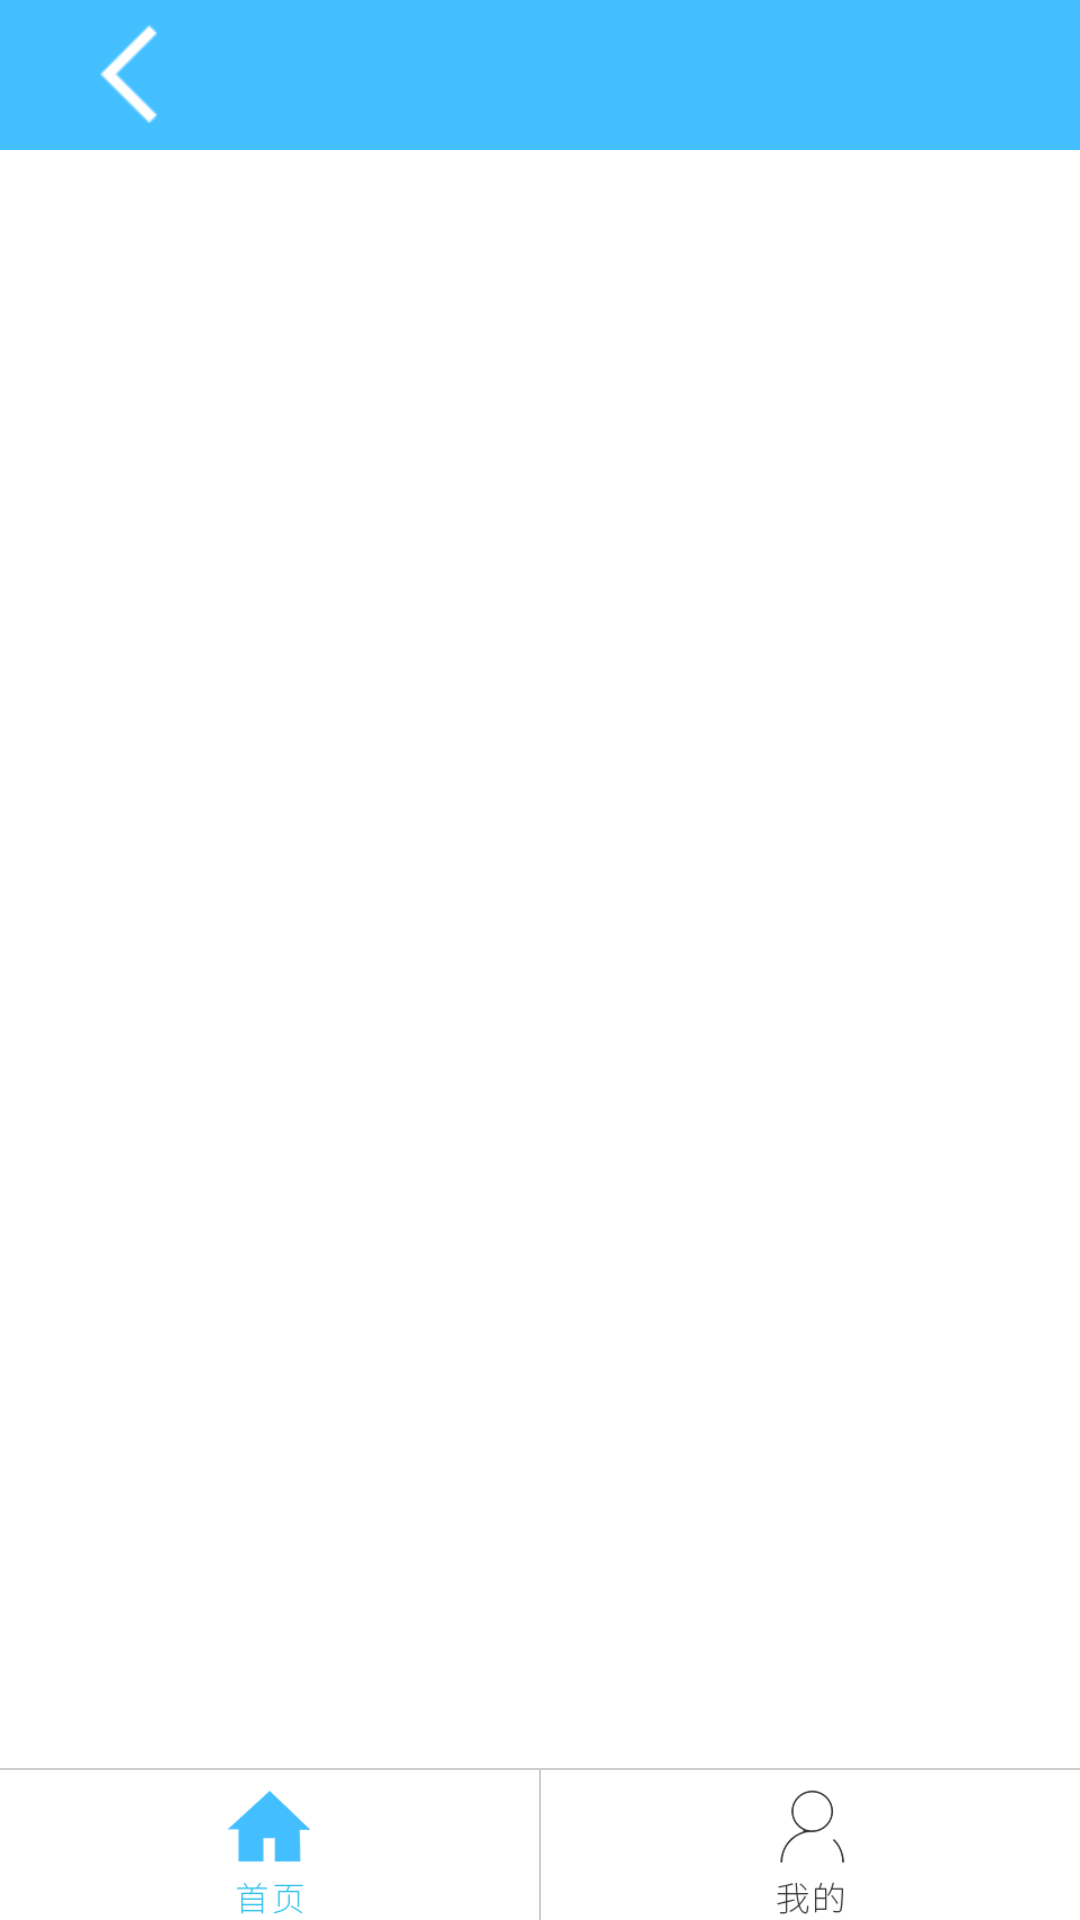

Where to tap for icons on this 1080 × 1920 app screen, as point (x, y):
back: point (128, 74)
